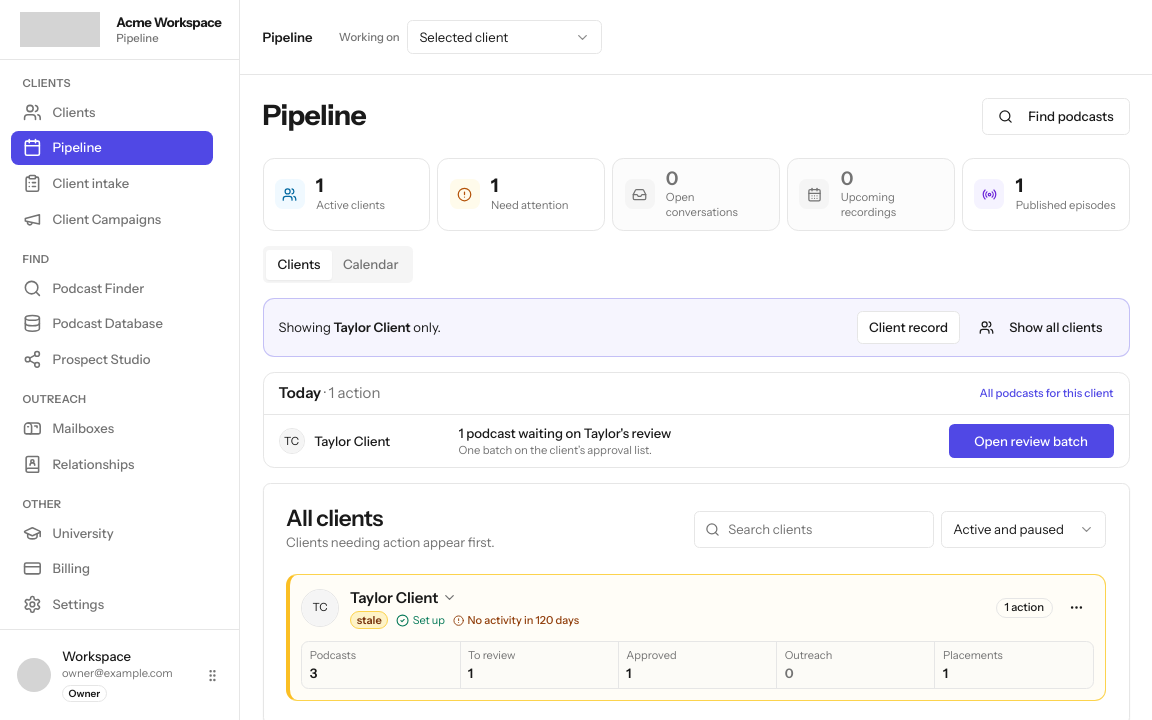
Test: WorkspaceClientPodcastSystem › narrows the queue to the client the address names, until cleared
This screenshot has width=1152, height=720.
Expected: the heading "Taylor Client" is shown, [350,586,457,609]
Expected: the text "Showing Taylor Client only." is shown, [278,318,441,337]
Click the button "Show all clients" at (1041, 327), box [968,310,1114,344]
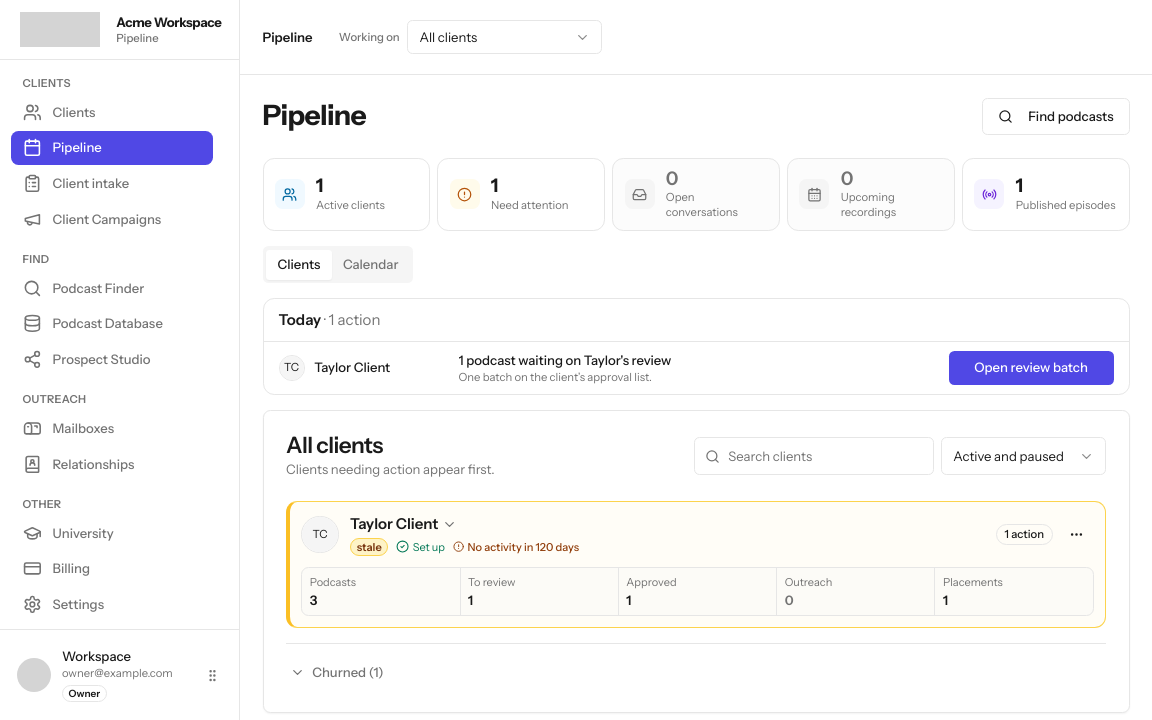
Expected: the button "Churned (1)" is shown, [278,655,395,689]
